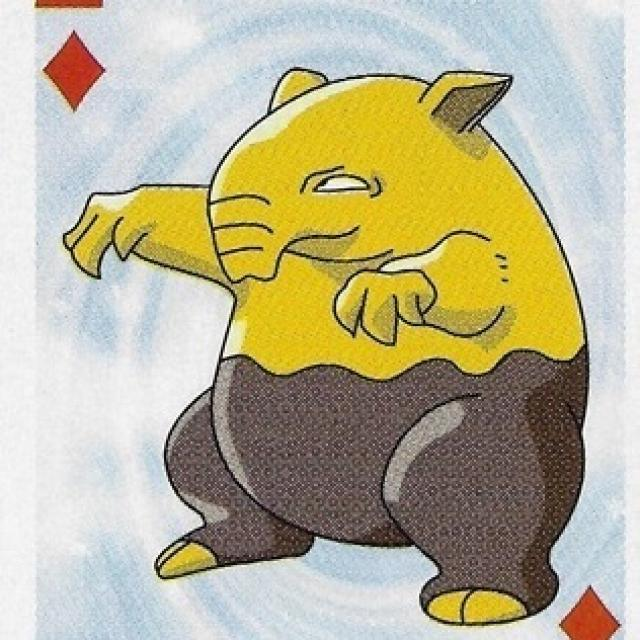Drowzee: (157, 66, 593, 583)
